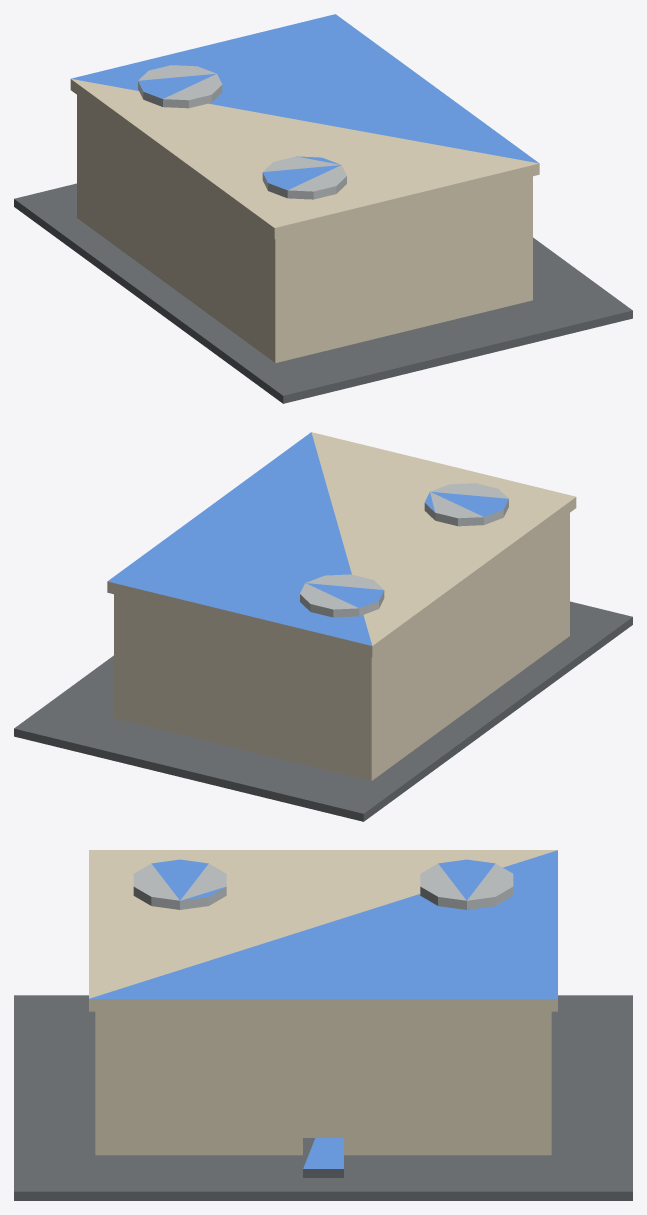
Rendered from meridian_refinery.glb.
The picture shows the model from 3 angles, top to bottom: view 1: azimuth 30°, elevation 25°; view 2: azimuth 150°, elevation 25°; view 3: azimuth 270°, elevation 25°; orthographic projection. The views are drawn at different scales.
Parts seen in each view (by area): view 1: hull; view 2: hull; view 3: hull, belt.
Part boxes in pixels (x1,y1,x2,y2): hull: (14, 14, 632, 403); hull: (14, 432, 632, 821); hull: (14, 850, 632, 1200); belt: (303, 1138, 343, 1177).
Bounding box in the file's own units: 11.4 × 4.8 × 15.2.
